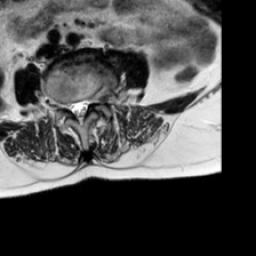CCS_normal: (75, 92, 83, 132)
LFS_normal: (91, 85, 100, 109)
LLS_normal: (83, 89, 91, 118)
RFS_stenosis: (59, 92, 67, 118)
RLS_normal: (67, 93, 75, 120)
